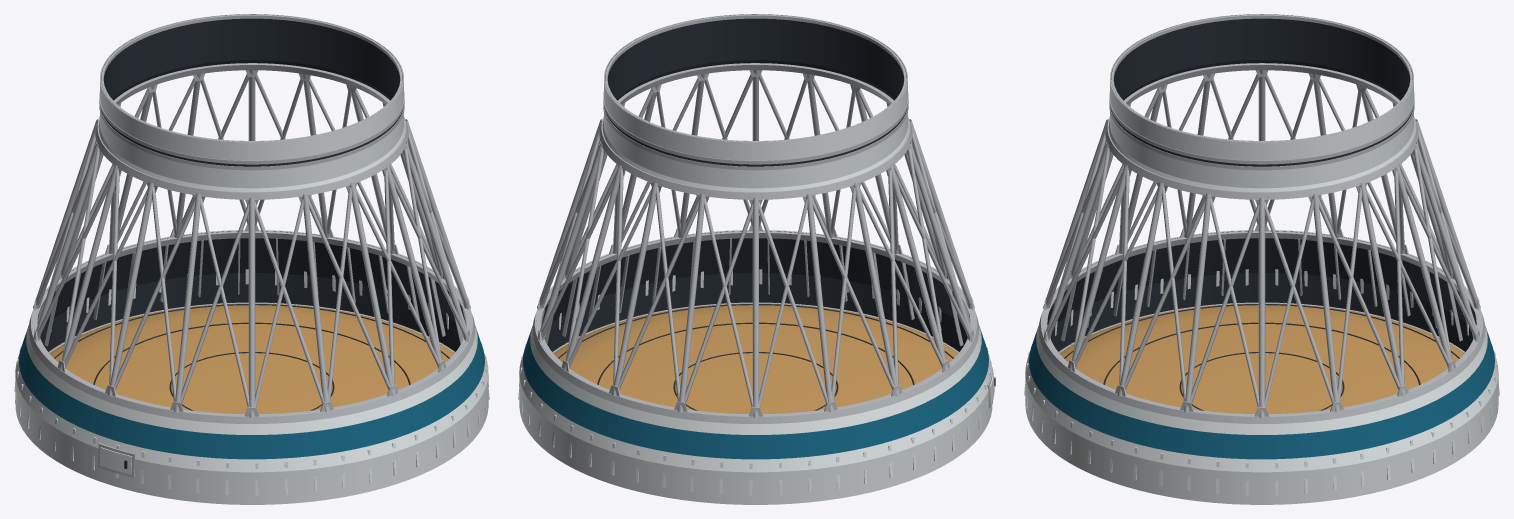
File: interstage_hot_staging_d84_to_d54.fbx
3 renders of one model, left to right at view 1: azimuth 30°, elevation 25°; view 2: azimuth 150°, elevation 25°; view 3: azimuth 270°, elevation 25°, orthographic.
Parts seen in each view (by area): view 1: interstage_hot_staging_d84_to_d54_LOD0; view 2: interstage_hot_staging_d84_to_d54_LOD0; view 3: interstage_hot_staging_d84_to_d54_LOD0.
Part boxes in pixels (box(x1,y1,x2,y2)): interstage_hot_staging_d84_to_d54_LOD0: box(14, 14, 489, 504); interstage_hot_staging_d84_to_d54_LOD0: box(518, 14, 995, 504); interstage_hot_staging_d84_to_d54_LOD0: box(1024, 14, 1499, 504).
Size of what is drawn, in the model's own units: 8.43 by 6.4 by 8.44.
